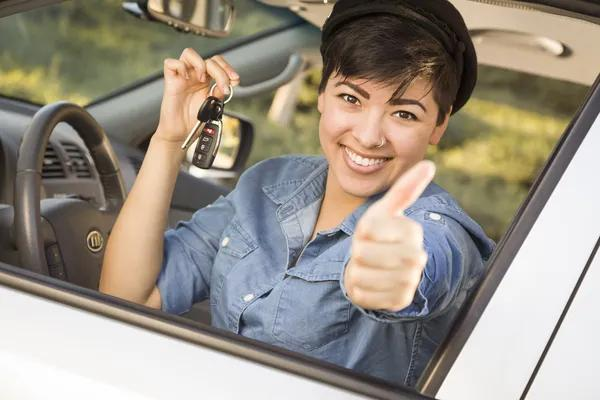Awake: (303, 0, 477, 195)
